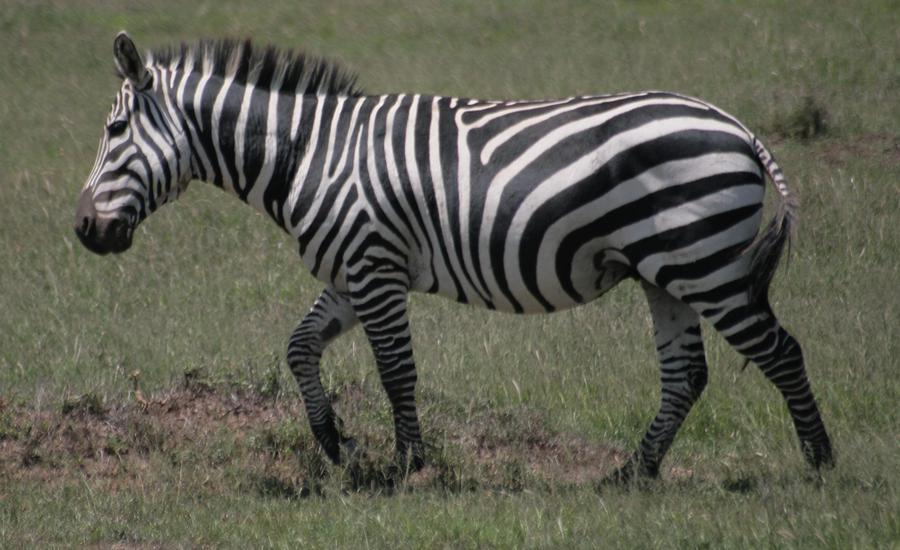zebra_plains: (276, 95, 773, 316)
